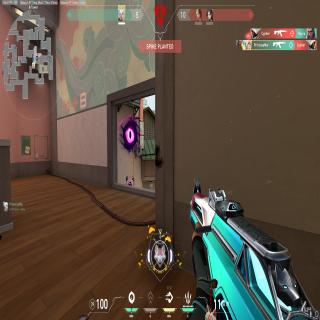ENEMY-HEAD: (129, 179, 131, 184)
